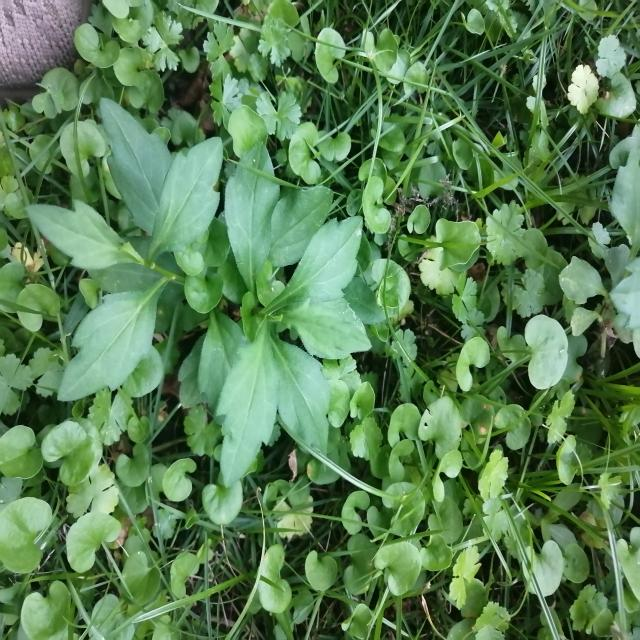Indian aster: (34, 112, 206, 397), (204, 164, 367, 448)
